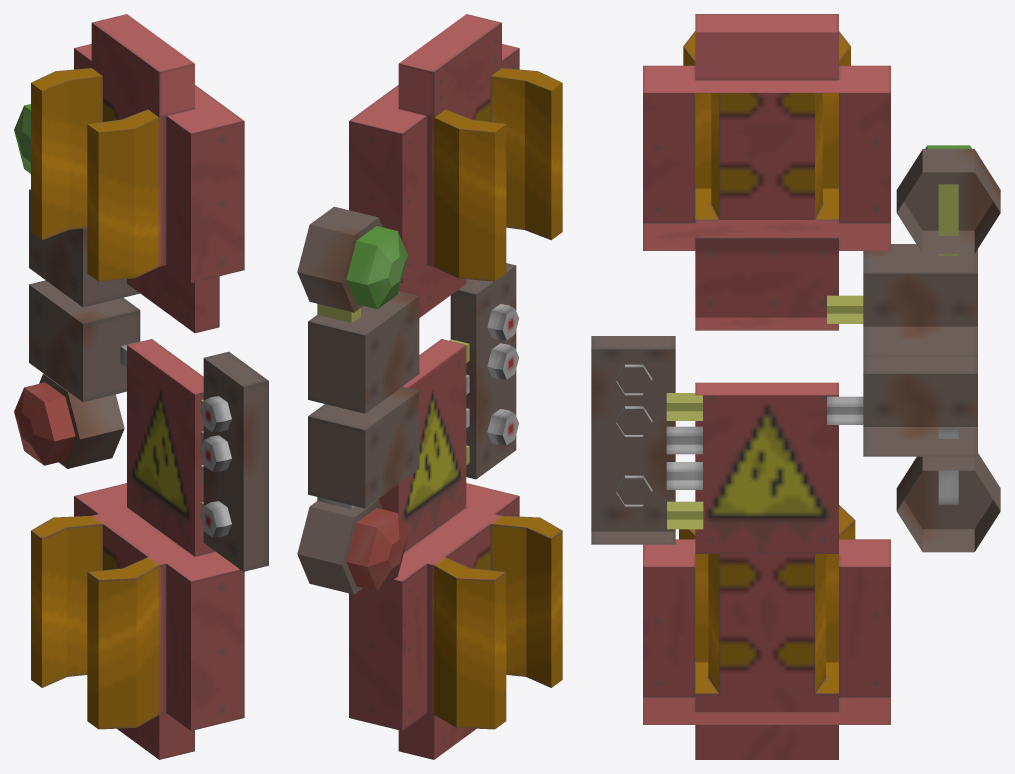
File: obj_legFuse.fbx
3 views of the same model, side by side, from view 1: azimuth 30°, elevation 25°; view 2: azimuth 150°, elevation 25°; view 3: azimuth 270°, elevation 25° (orthographic). The views are drawn at different scales.
Parts seen in each view (by area): view 1: obj_legFuse; view 2: obj_legFuse; view 3: obj_legFuse.
Part boxes in pixels (x1,y1,x2,y2): obj_legFuse: (14, 14, 268, 759); obj_legFuse: (297, 14, 562, 759); obj_legFuse: (591, 14, 1000, 759).
Size of the model in its own units: 14 by 75.9 by 38.71.
